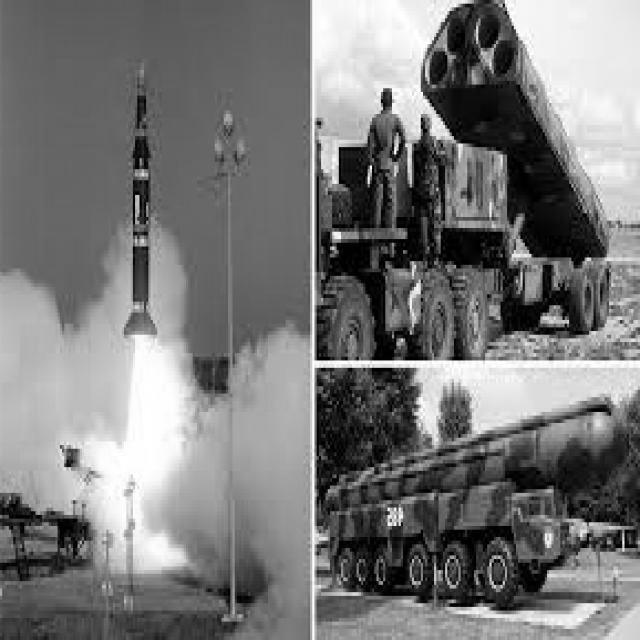Missile: (122, 62, 158, 342)
